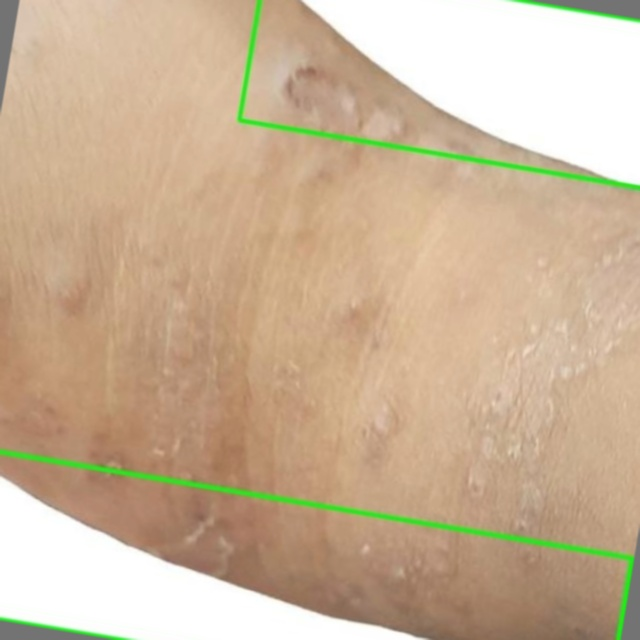Eczema: (0, 452, 633, 639), (239, 0, 639, 188)
